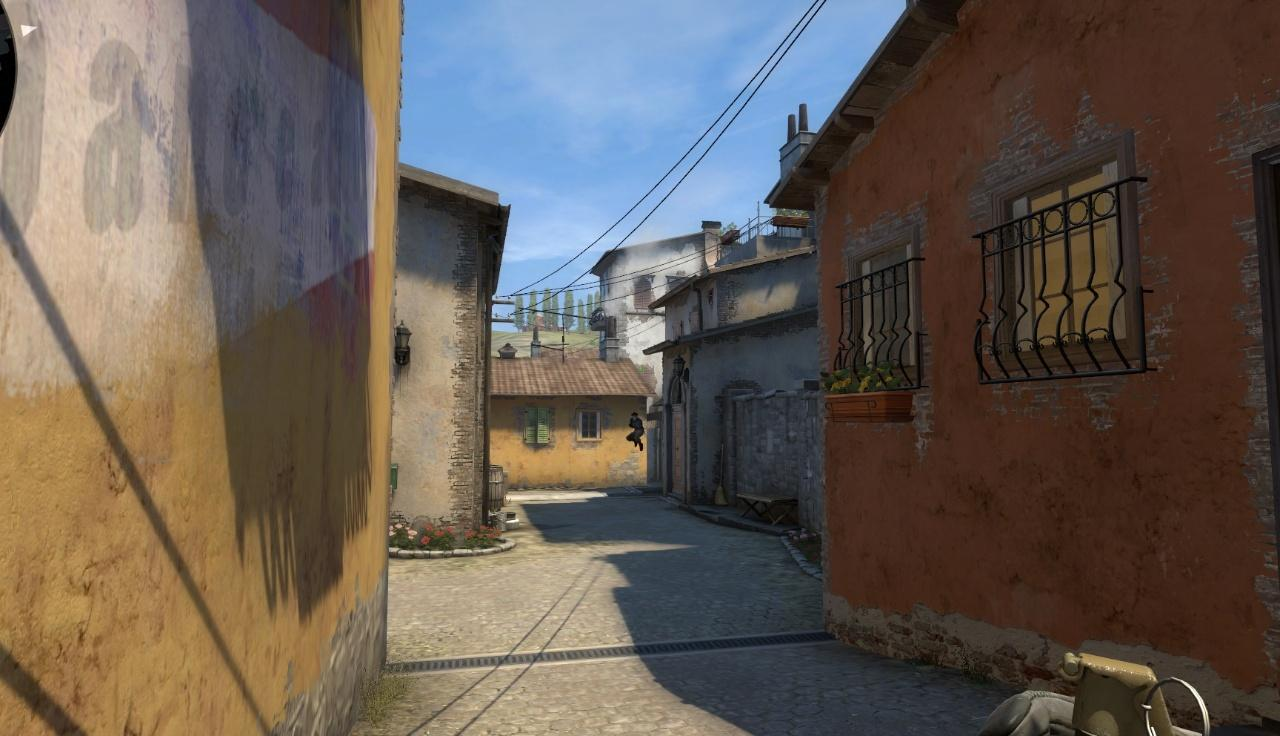tt: (627, 412, 644, 451)
tthead: (631, 412, 639, 420)
